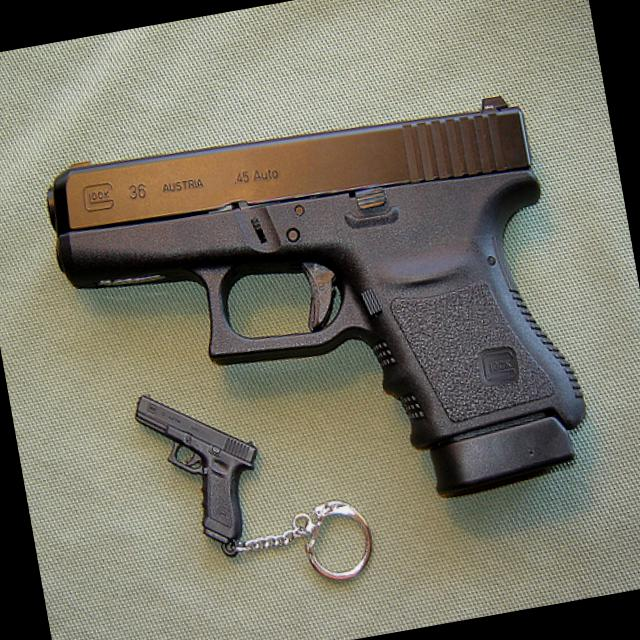handgun: (34, 76, 600, 561), (127, 375, 270, 568)
